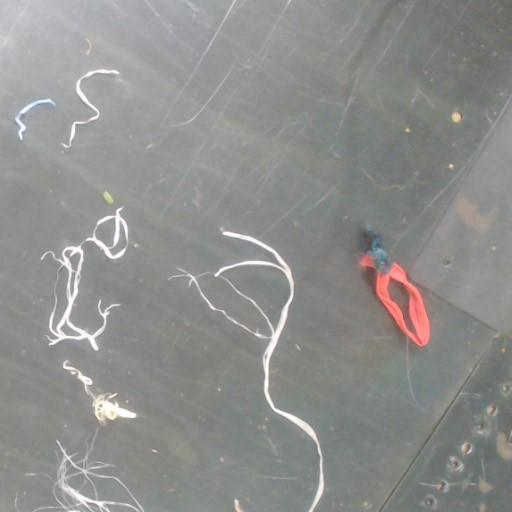cloth: (360, 226, 429, 346)
thread: (169, 231, 323, 511), (41, 208, 128, 351), (34, 441, 144, 511), (63, 360, 136, 423), (64, 69, 119, 147), (15, 98, 55, 139)
